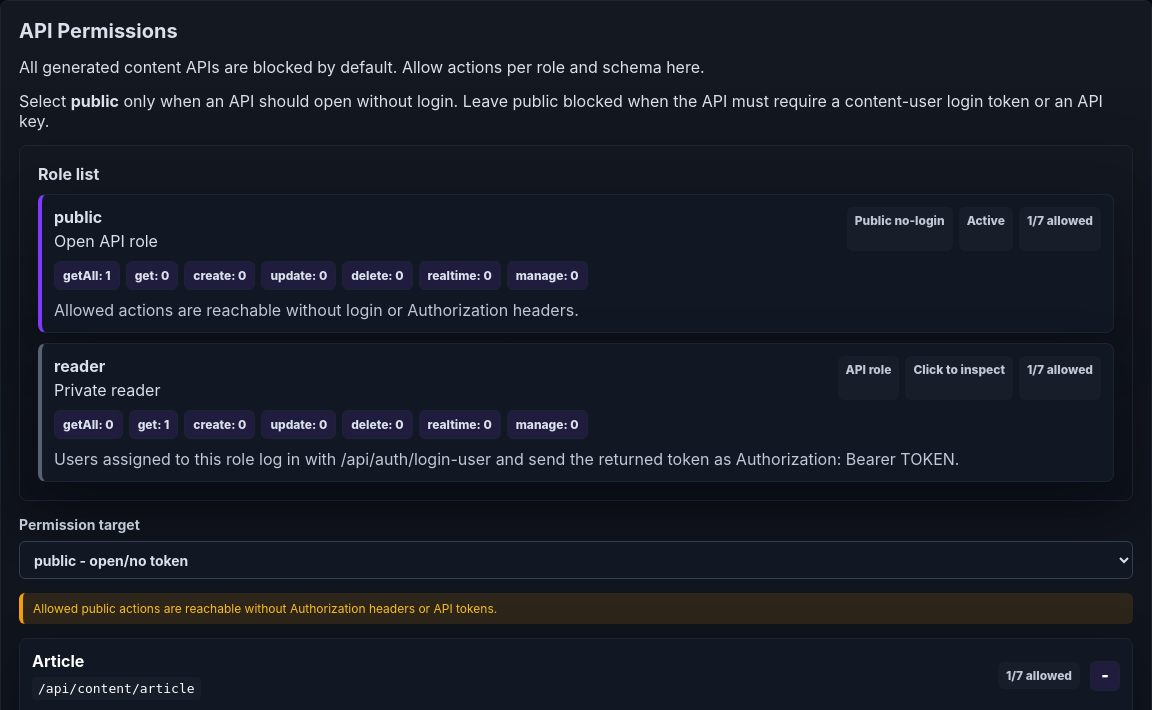
Test: ApiPermissionManager › shows access counts for every role and selects a role from the role card
Click the button with class "role-row" that starts with "reader": (576, 412) [38, 343, 1114, 482]
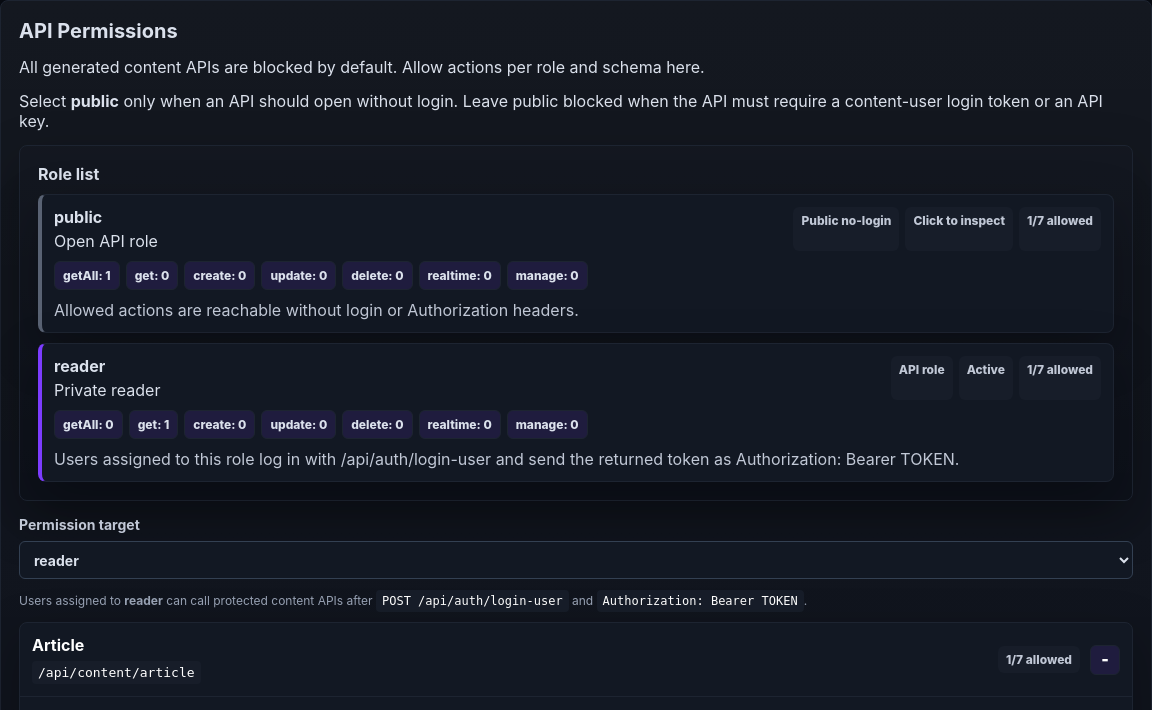
Expected: the text "Authorization: Bearer TOKEN" is shown, [54, 449, 959, 469]
Expected: the dropdown labelled "Permission target" shows "reader", [19, 541, 1133, 579]
Expected: the text "POST /api/auth/login-user" is shown, [376, 590, 569, 612]
